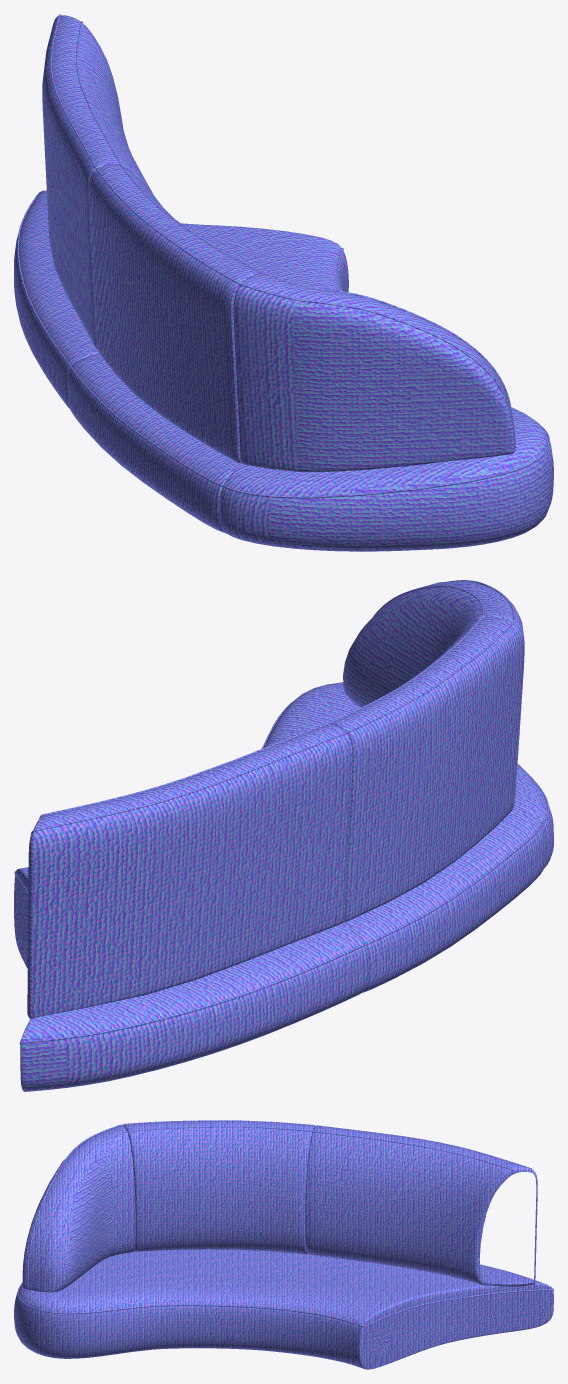
Rendered from levante_s_female_mirror.gltf.
The picture shows the model from 3 angles, top to bottom: view 1: azimuth 30°, elevation 25°; view 2: azimuth 150°, elevation 25°; view 3: azimuth 270°, elevation 25°; orthographic projection. The views are drawn at different scales.
Visible parts, largest first — view 1: levante_s_female001; view 2: levante_s_female001; view 3: levante_s_female001.
Boxes of the visible parts, x1,y1,x2,y2 form: levante_s_female001: (14, 14, 553, 551); levante_s_female001: (14, 580, 553, 1091); levante_s_female001: (14, 1120, 553, 1369).
Bounding box in the file's own units: 0.9381 × 0.6989 × 2.08.
1 material, 1 textured.
